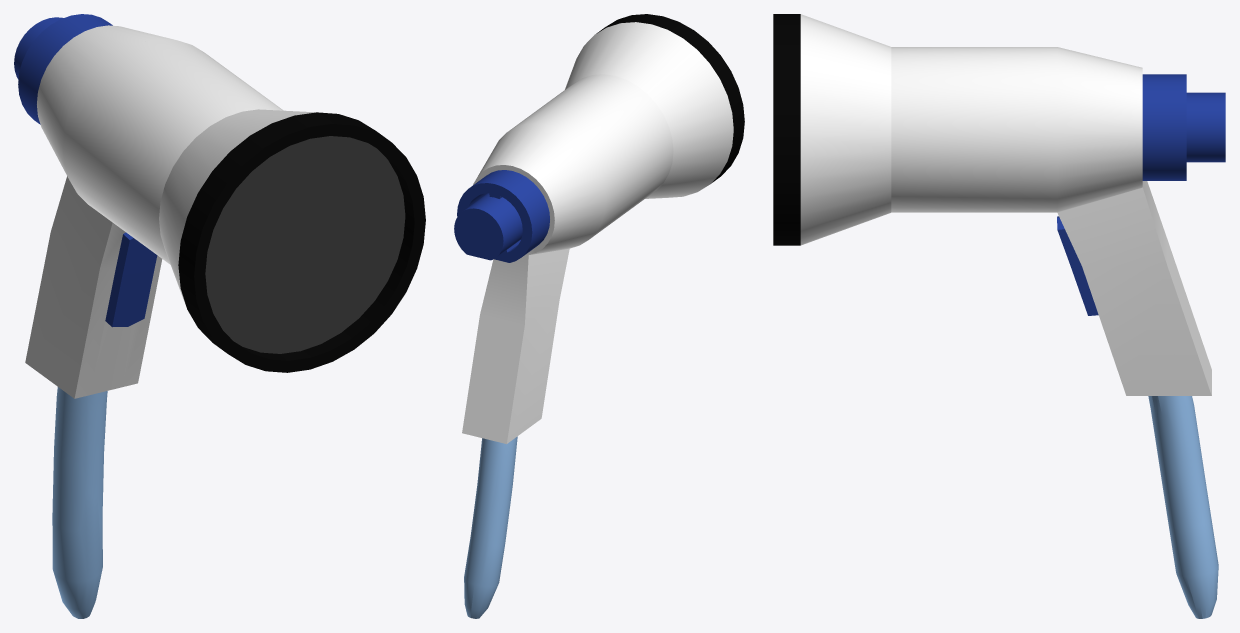
Rendered from sansui.fbx.
The picture shows the model from 3 angles, left to right: view 1: azimuth 30°, elevation 25°; view 2: azimuth 150°, elevation 25°; view 3: azimuth 270°, elevation 25°; orthographic projection. The views are drawn at different scales.
Parts seen in each view (by area): view 1: sansui; view 2: sansui; view 3: sansui.
Part boxes in pixels (x1,y1,x2,y2): sansui: [14, 14, 425, 618]; sansui: [454, 14, 744, 618]; sansui: [773, 14, 1225, 618].
Size of the model in its own units: 186 by 517 by 362.
Materials: 1 (1 with a texture image).
